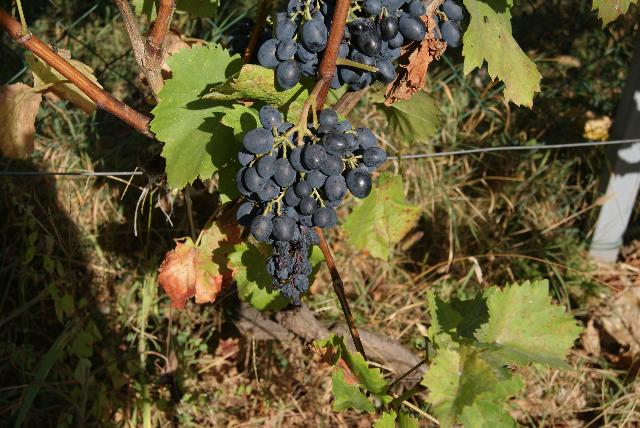grapes: (236, 105, 380, 305), (330, 0, 426, 90), (256, 0, 335, 89)
